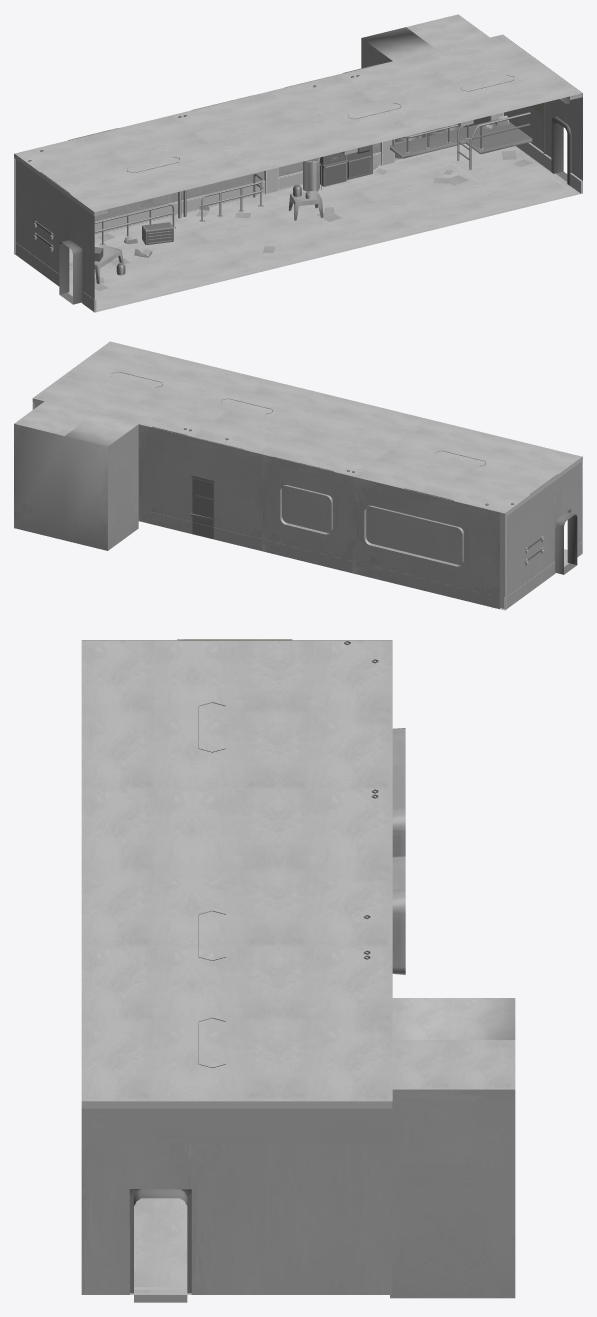
File: MSH_QuestVault_L3_R3_optimized.fbx
3 renders of one model, top to bottom at view 1: azimuth 30°, elevation 25°; view 2: azimuth 150°, elevation 25°; view 3: azimuth 270°, elevation 25°, orthographic. The views are drawn at different scales.
Visible parts, largest first — view 1: lightmap3, lightmap1, lightmap0, lightmap2, MSH_QuestVault_L3_R3_Decals_02; view 2: lightmap3, lightmap1, lightmap0; view 3: lightmap3, lightmap1, lightmap0.
Part boxes in pixels (left/top/right/bottom): lightmap3: left=14, top=14, right=582, bottom=312; lightmap1: left=59, top=121, right=580, bottom=311; lightmap0: left=28, top=75, right=575, bottom=309; lightmap2: left=94, top=102, right=545, bottom=244; MSH_QuestVault_L3_R3_Decals_02: left=69, top=150, right=531, bottom=290; lightmap3: left=14, top=341, right=582, bottom=610; lightmap1: left=280, top=482, right=577, bottom=610; lightmap0: left=111, top=371, right=570, bottom=561; lightmap3: left=81, top=640, right=515, bottom=1298; lightmap1: left=130, top=728, right=405, bottom=1302; lightmap0: left=129, top=641, right=378, bottom=1293.
Bounding box in the file's own units: 30.91 × 6.36 × 11.89.
3 materials, 3 textured.
